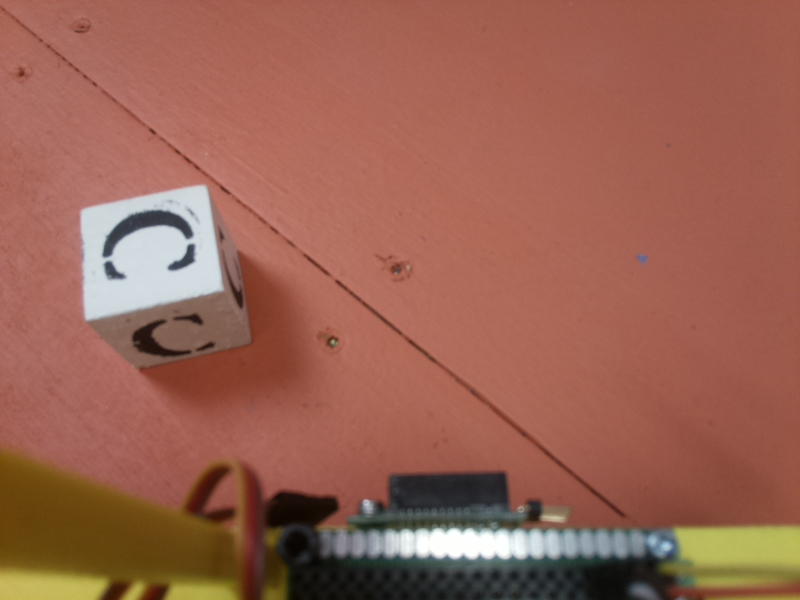blockC: (74, 182, 262, 373)
